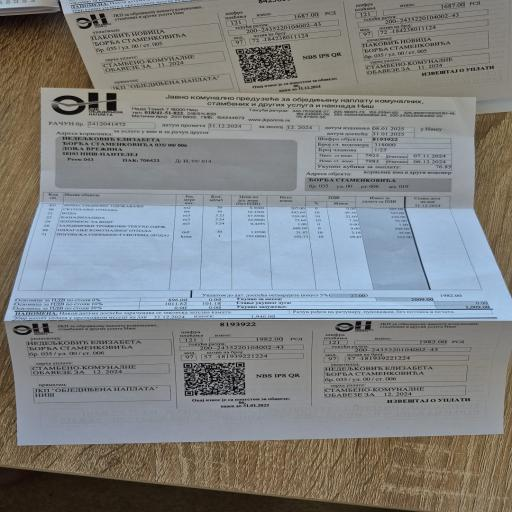stambene_usluge_nis: (315, 137, 456, 171)
stambene_usluge_nis_iznos: (232, 298, 497, 310)
